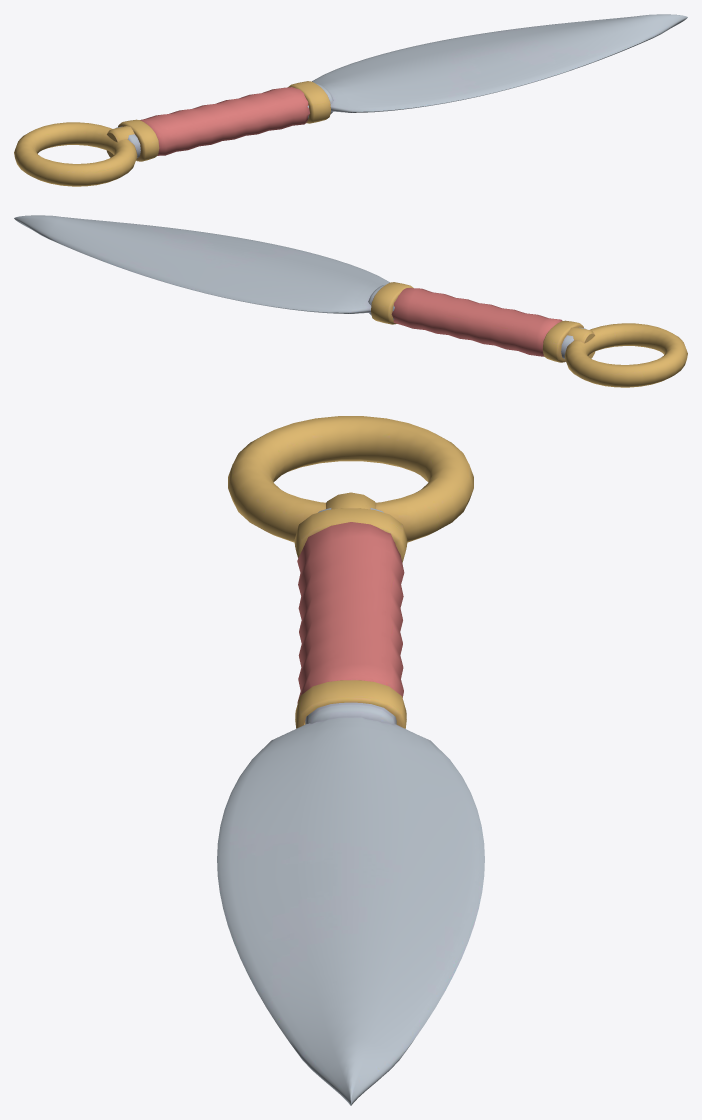
The model's file is throwing-knife.obj.
3 renders of one model, top to bottom at view 1: azimuth 30°, elevation 25°; view 2: azimuth 150°, elevation 25°; view 3: azimuth 270°, elevation 25°, orthographic. The views are drawn at different scales.
Parts seen in each view (by area): view 1: throwing-knife_body; view 2: throwing-knife_body; view 3: throwing-knife_body.
Part boxes in pixels (<box>): throwing-knife_body: <box>14,14,687,186</box>; throwing-knife_body: <box>14,215,687,387</box>; throwing-knife_body: <box>217,416,484,1105</box>.
Bounding box in the file's own units: 0.2287 × 0.012 × 0.0399.
Materials: 1 (1 with a texture image).
